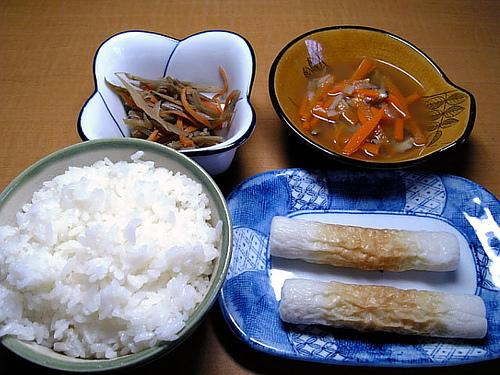plate: (0, 138, 232, 372)
rice: (0, 151, 220, 357)
